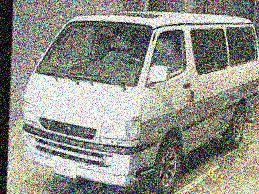van: (19, 6, 259, 194)
